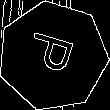P_E: (23, 31, 83, 81)
